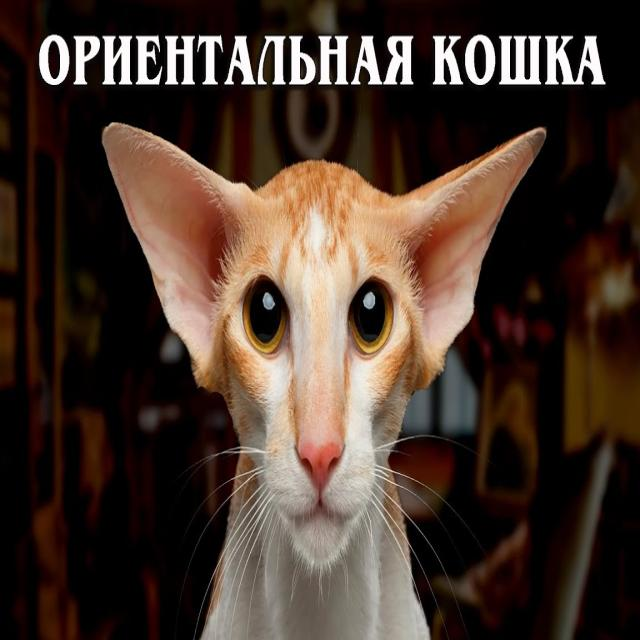Oriental: (99, 110, 551, 640)
